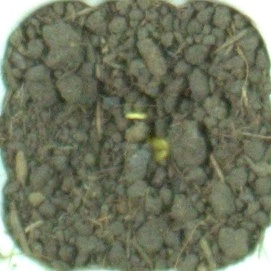pepper seed: (59, 55, 230, 217), (45, 36, 197, 160)
